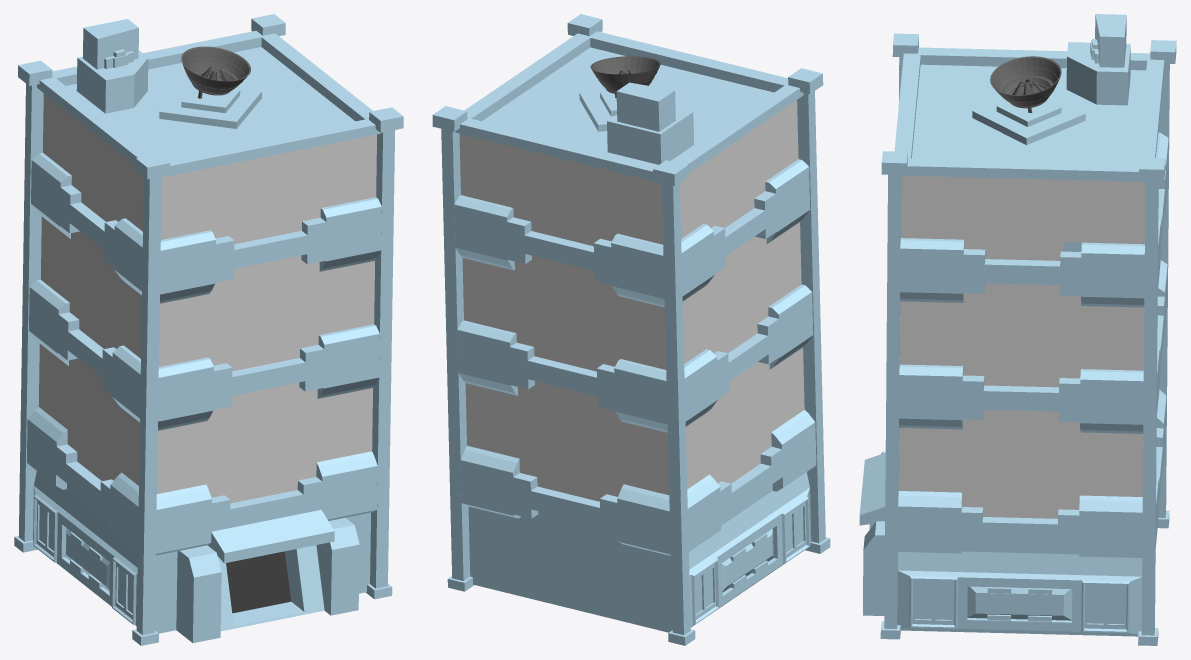
Rendered from Edificio Azul.fbx.
3 views of the same model, side by side, from view 1: azimuth 30°, elevation 25°; view 2: azimuth 150°, elevation 25°; view 3: azimuth 270°, elevation 25° (orthographic). The views are drawn at different scales.
Parts seen in each view (by area): view 1: Construcción.006; view 2: Construcción.006; view 3: Construcción.006.
Part boxes in pixels (box(x1,y1,x2,y2)): Construcción.006: box(14, 14, 403, 645); Construcción.006: box(432, 14, 830, 645); Construcción.006: box(859, 14, 1176, 645).
Size of the model in its own units: 113 by 213 by 114.
2 materials, 1 textured.
